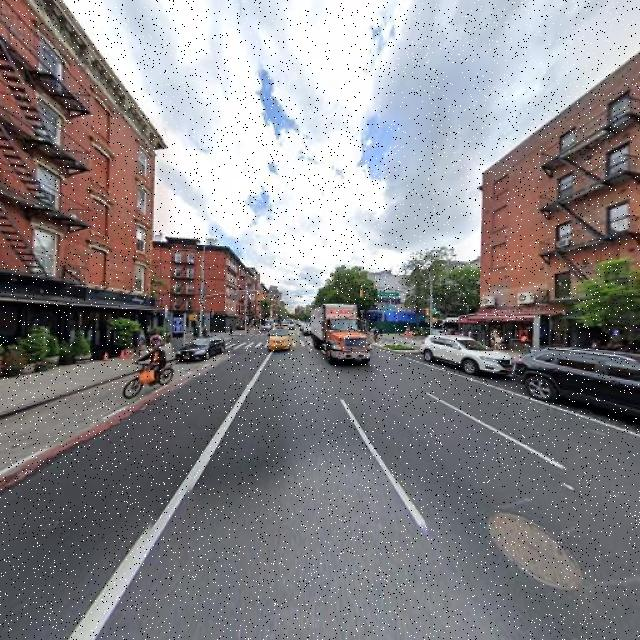Building: (1, 1, 155, 367), (485, 65, 640, 379)
